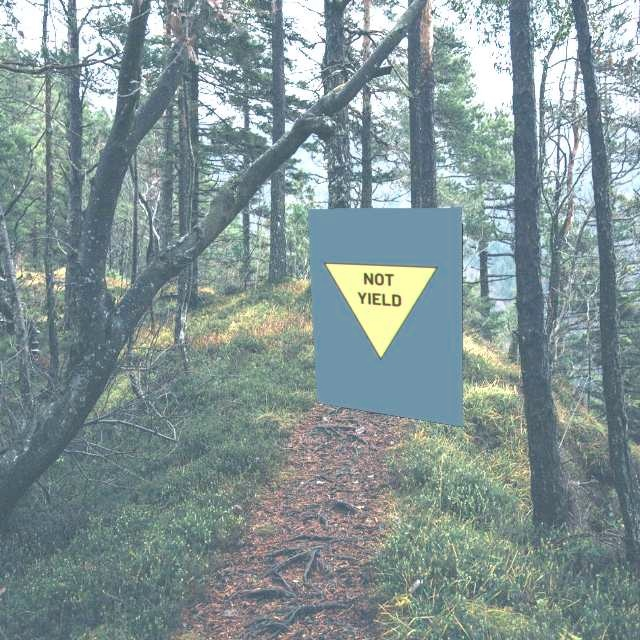NOT_YIELD: (324, 263, 439, 367)
